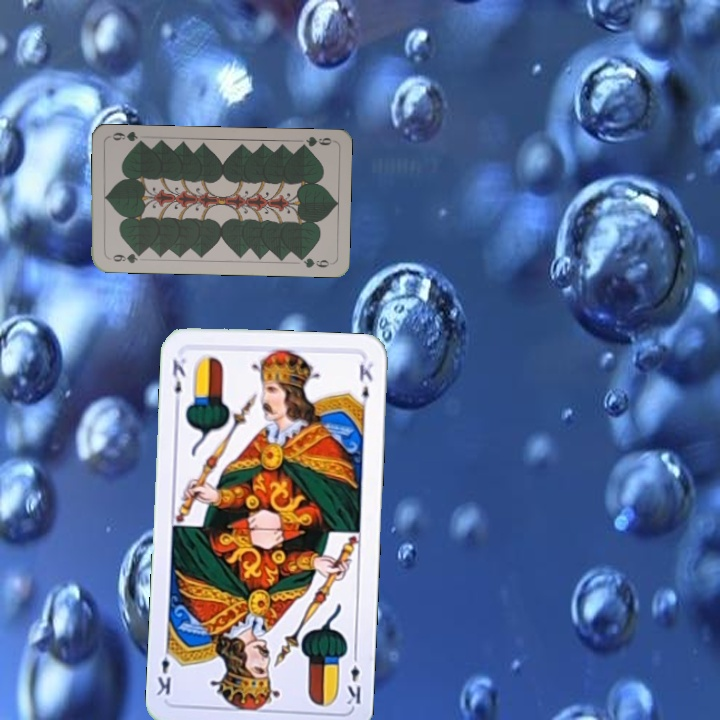EK: (343, 648, 364, 707), (168, 354, 189, 410)
G9: (295, 132, 336, 151), (104, 249, 145, 266)
